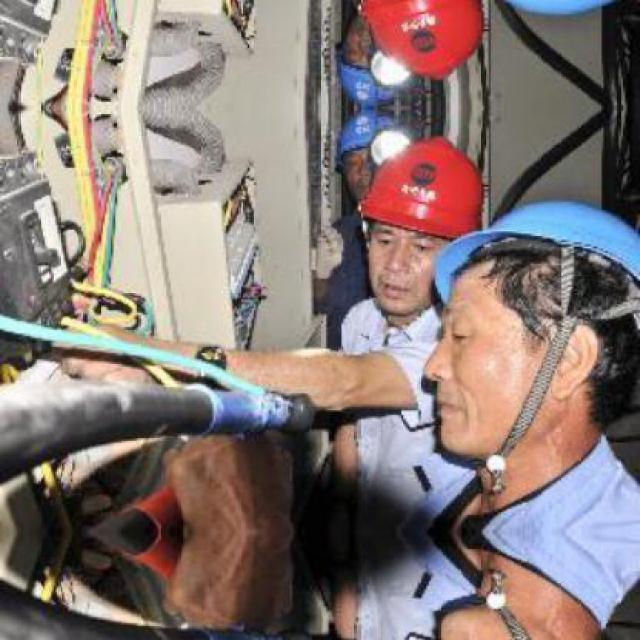hat: (426, 194, 640, 315), (355, 136, 483, 241), (336, 111, 396, 158)
